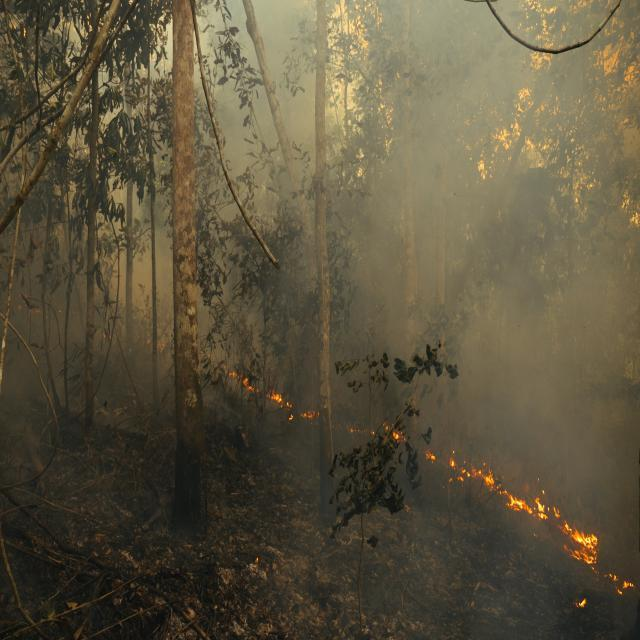Fire: (448, 449, 600, 572), (224, 366, 324, 428), (602, 555, 636, 602), (378, 419, 414, 449), (570, 590, 590, 612)
Smoke: (308, 0, 536, 483), (456, 246, 640, 547)
